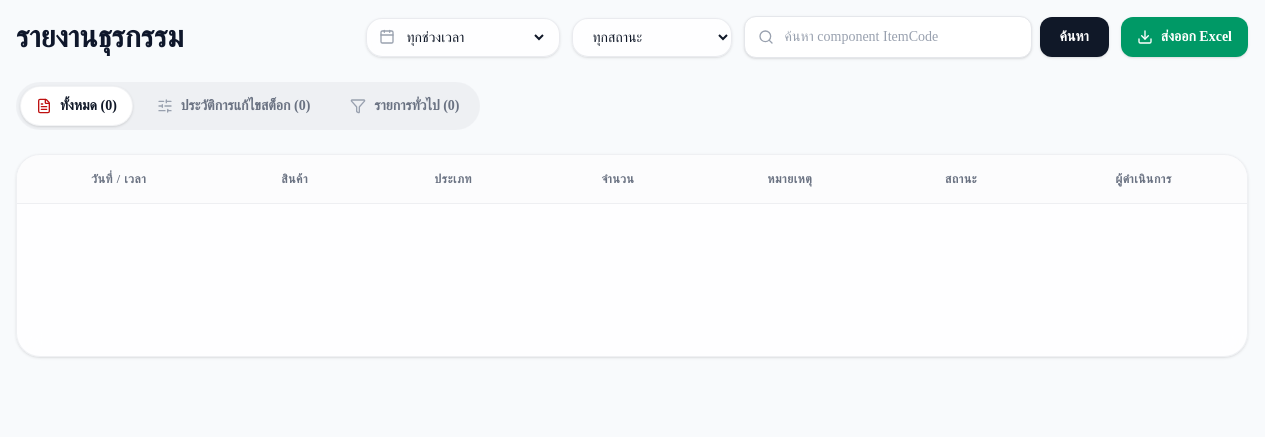
Test: Reports Page — Excel Export UI Integration › 15. Date Range: Warns when Start Date is greater than End Date
The image size is (1265, 437).
Select "กำหนดเอง" in the 1st dropdown at (474, 37), box left=402, top=24, right=546, bottom=50
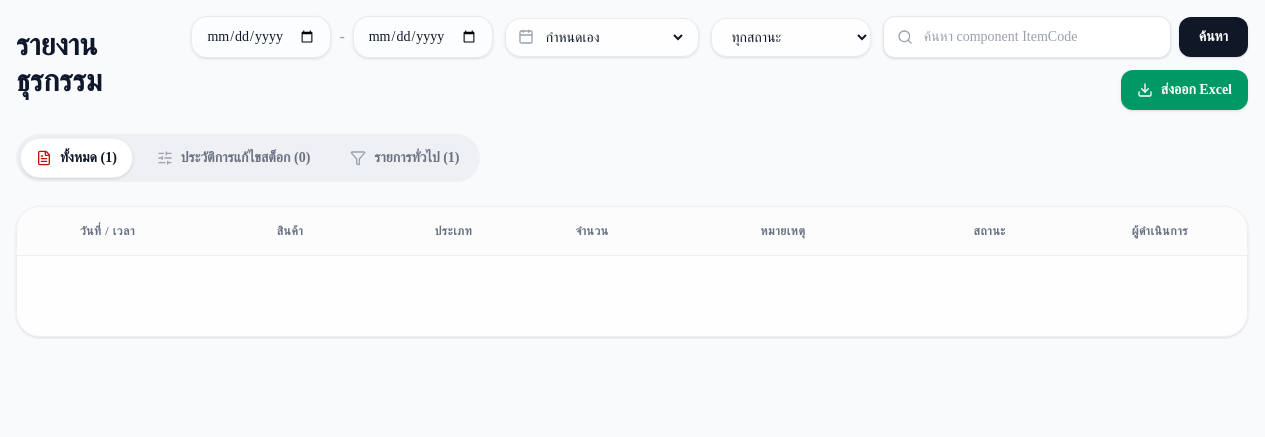
Type "2026-08-31" into the date field named "วันที่เริ่มต้น".
click(261, 37); type("2026-08-31")  # box left=191, top=16, right=331, bottom=58
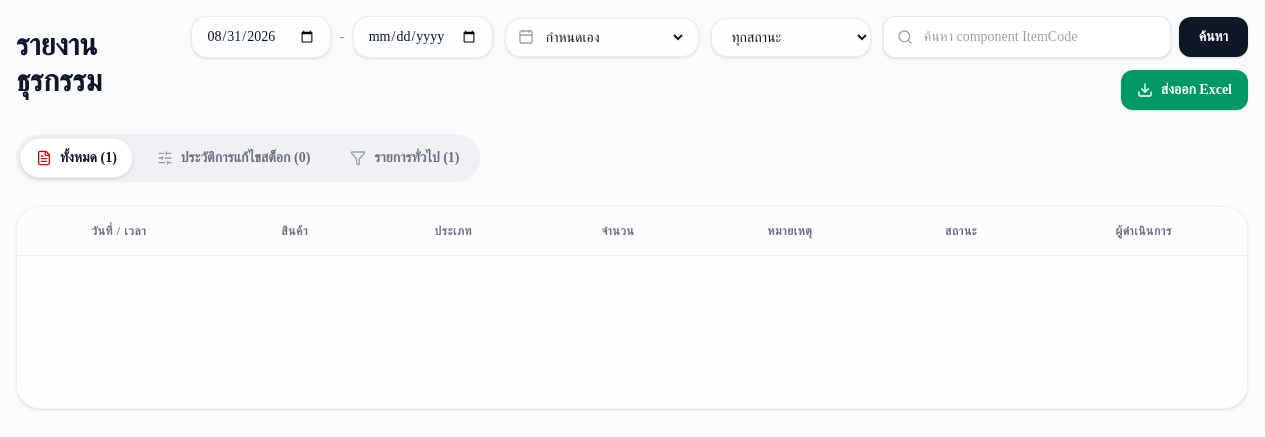
Type "2026-08-01" into the date field named "วันที่สิ้นสุด".
click(423, 37); type("2026-08-01")  # box left=353, top=16, right=493, bottom=58
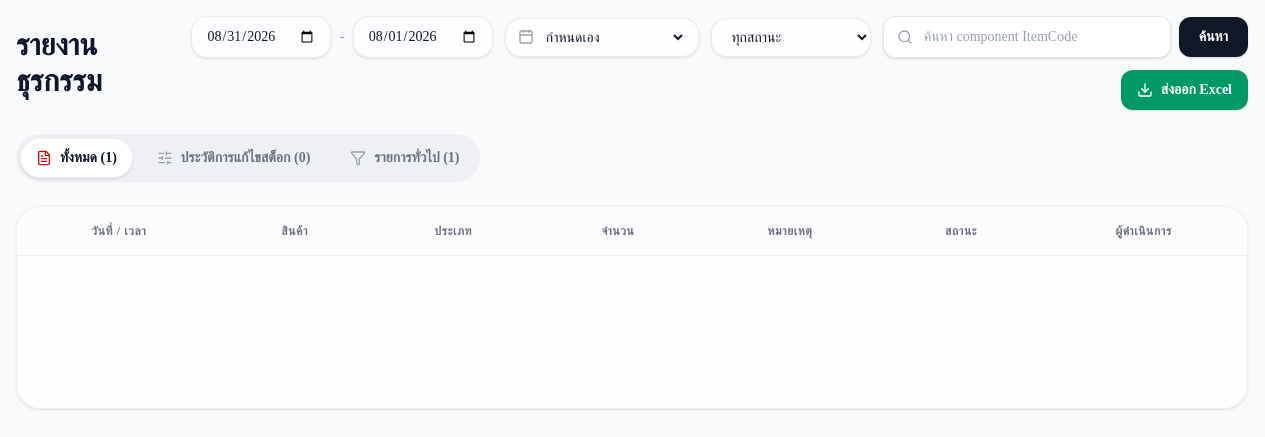
Click the button "ส่งออก Excel".
click(1184, 90)  # box left=1121, top=70, right=1248, bottom=110
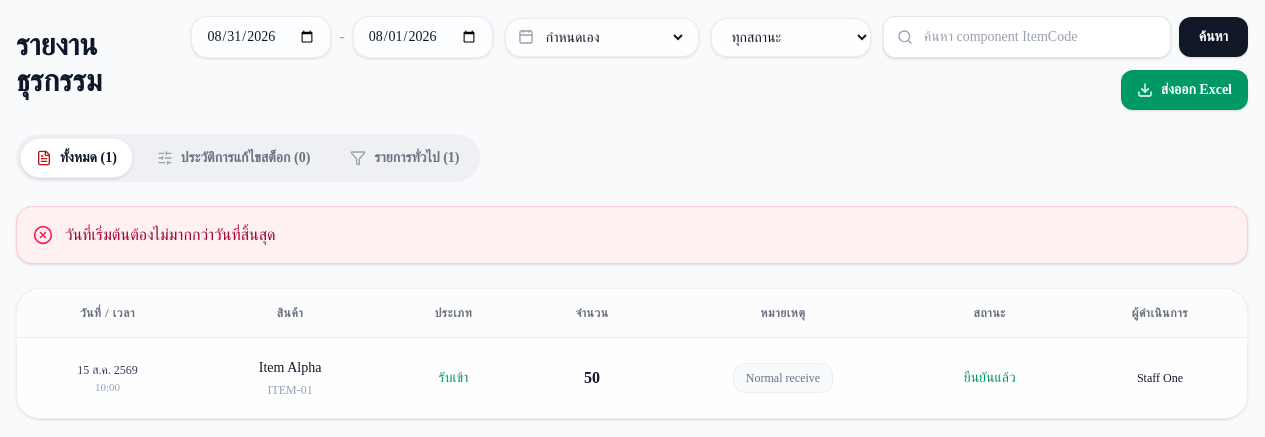
Result: the text "วันที่เริ่มต้นต้องไม่มากกว่าวันที่สิ้นสุด" is shown at left=65, top=223, right=276, bottom=247
